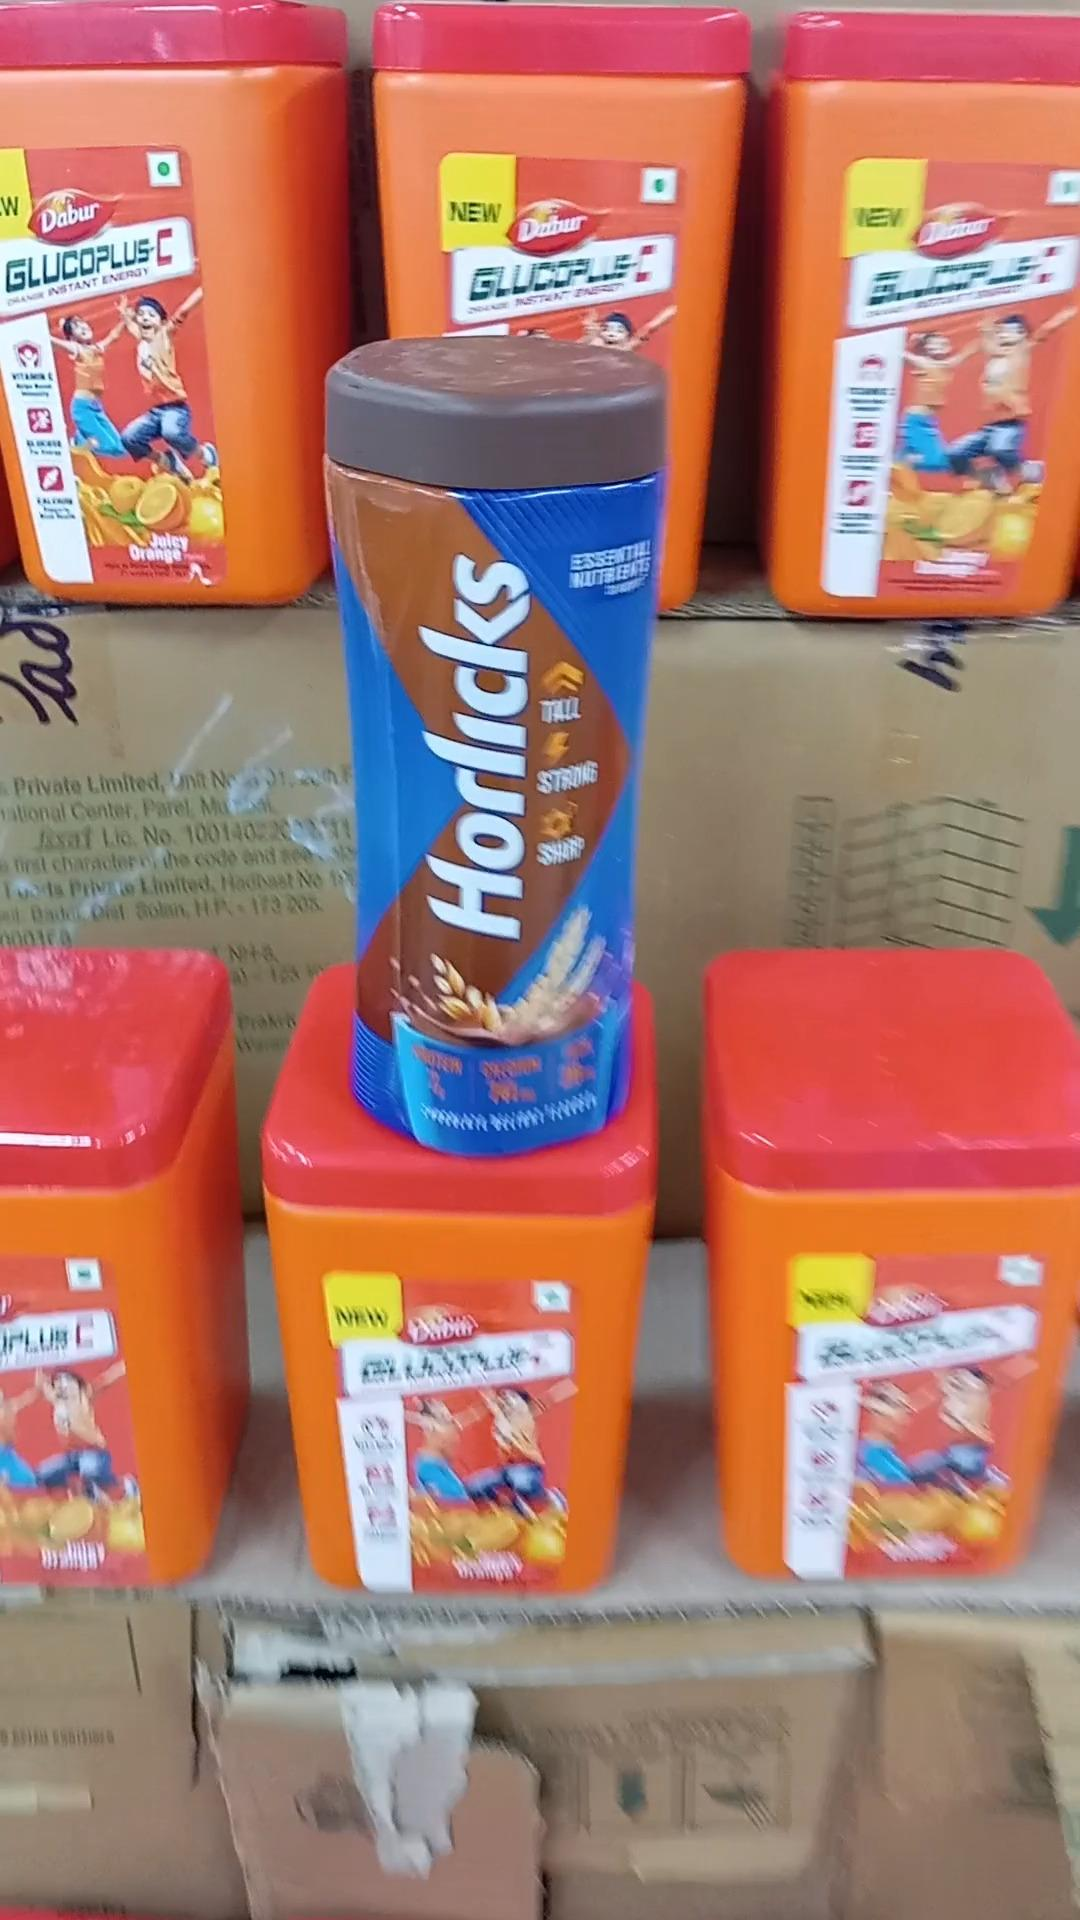HORLICK_CHOCOLATE_500_G_JAR: (330, 324, 655, 1155)
